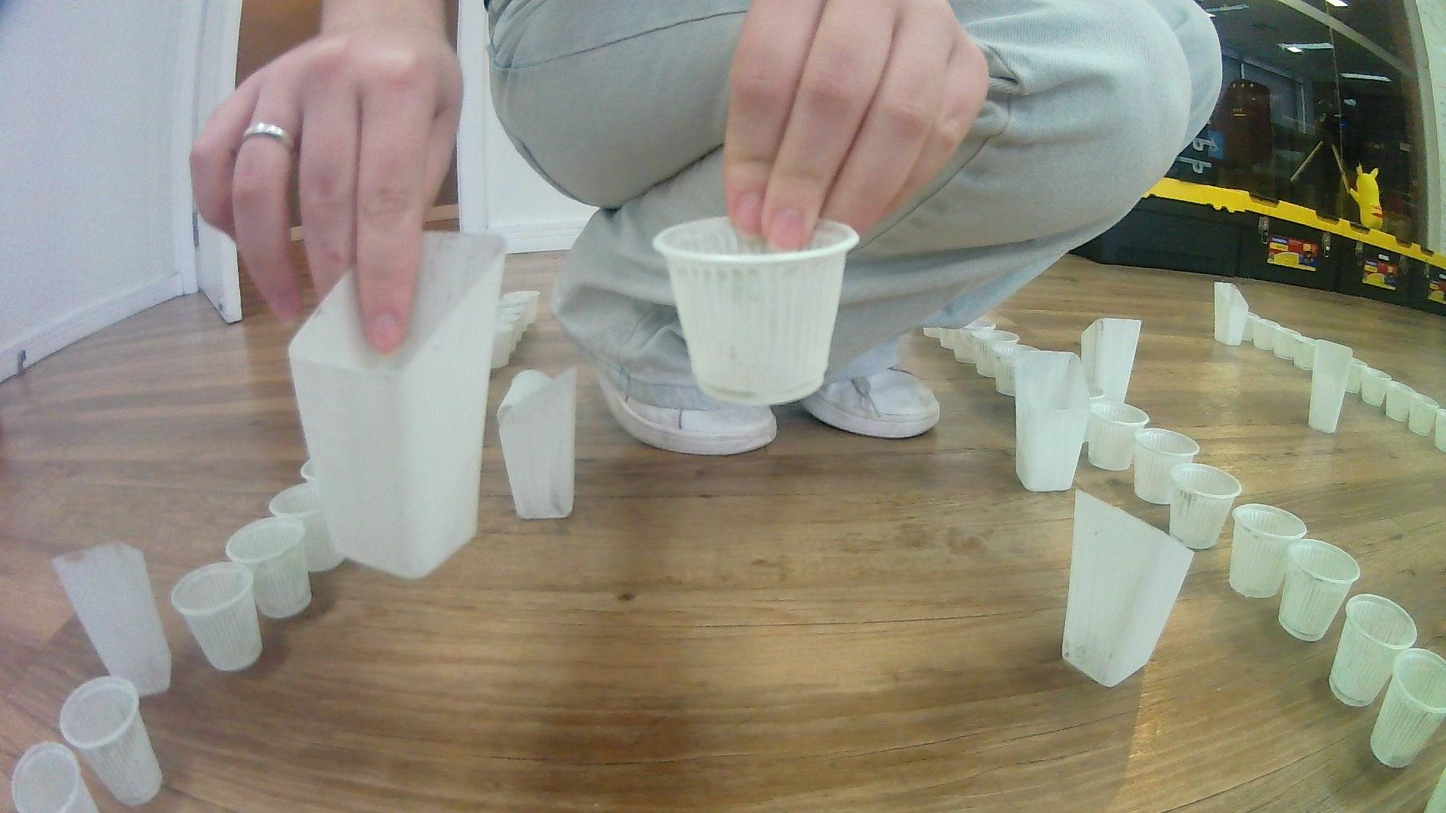erva_daninha: (287, 236, 508, 582), (1059, 489, 1197, 688), (53, 541, 174, 699), (498, 362, 578, 521), (1014, 350, 1091, 493), (1081, 315, 1142, 404), (1309, 339, 1355, 434), (1213, 281, 1249, 346)
planta: (653, 217, 859, 406), (60, 677, 164, 807), (170, 562, 264, 673), (1329, 592, 1417, 708), (1368, 647, 1446, 769), (225, 515, 313, 620), (1278, 538, 1361, 642), (1228, 503, 1307, 598), (269, 483, 346, 574), (1167, 463, 1242, 550), (9, 742, 100, 813), (1130, 428, 1200, 506), (1087, 401, 1150, 470), (993, 340, 1047, 396), (975, 330, 1020, 378), (953, 320, 996, 366), (496, 305, 533, 345), (1409, 395, 1443, 437), (501, 291, 540, 327), (490, 321, 519, 369), (1385, 382, 1417, 422), (1362, 369, 1393, 406), (1274, 327, 1301, 360), (1345, 360, 1371, 394), (1253, 318, 1279, 352), (1292, 336, 1316, 372), (1242, 312, 1263, 348), (1433, 406, 1446, 452), (939, 327, 966, 349), (923, 327, 945, 339)
